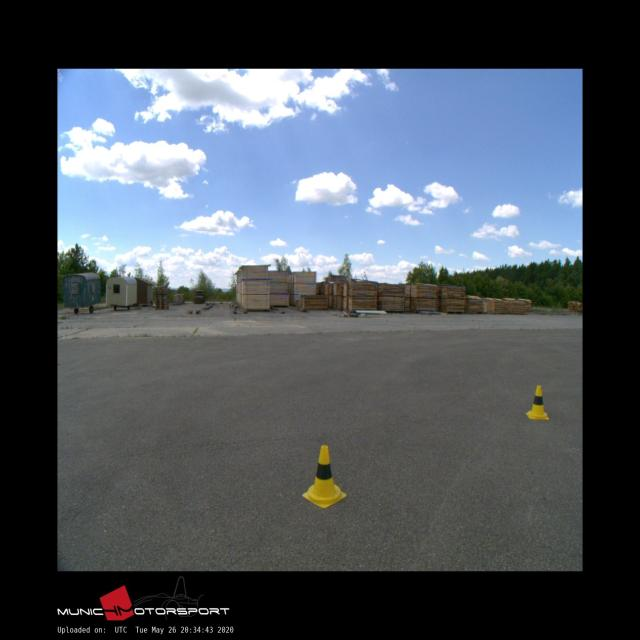yellow_cone: (302, 444, 345, 506), (526, 385, 548, 419)
